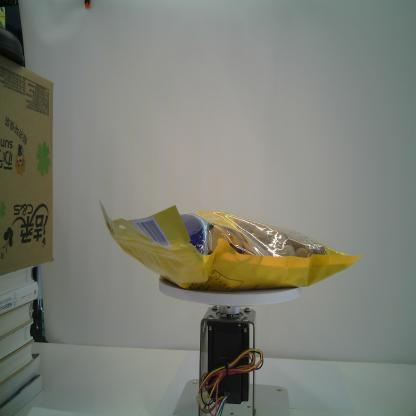Dried Food: (96, 196, 364, 292)
